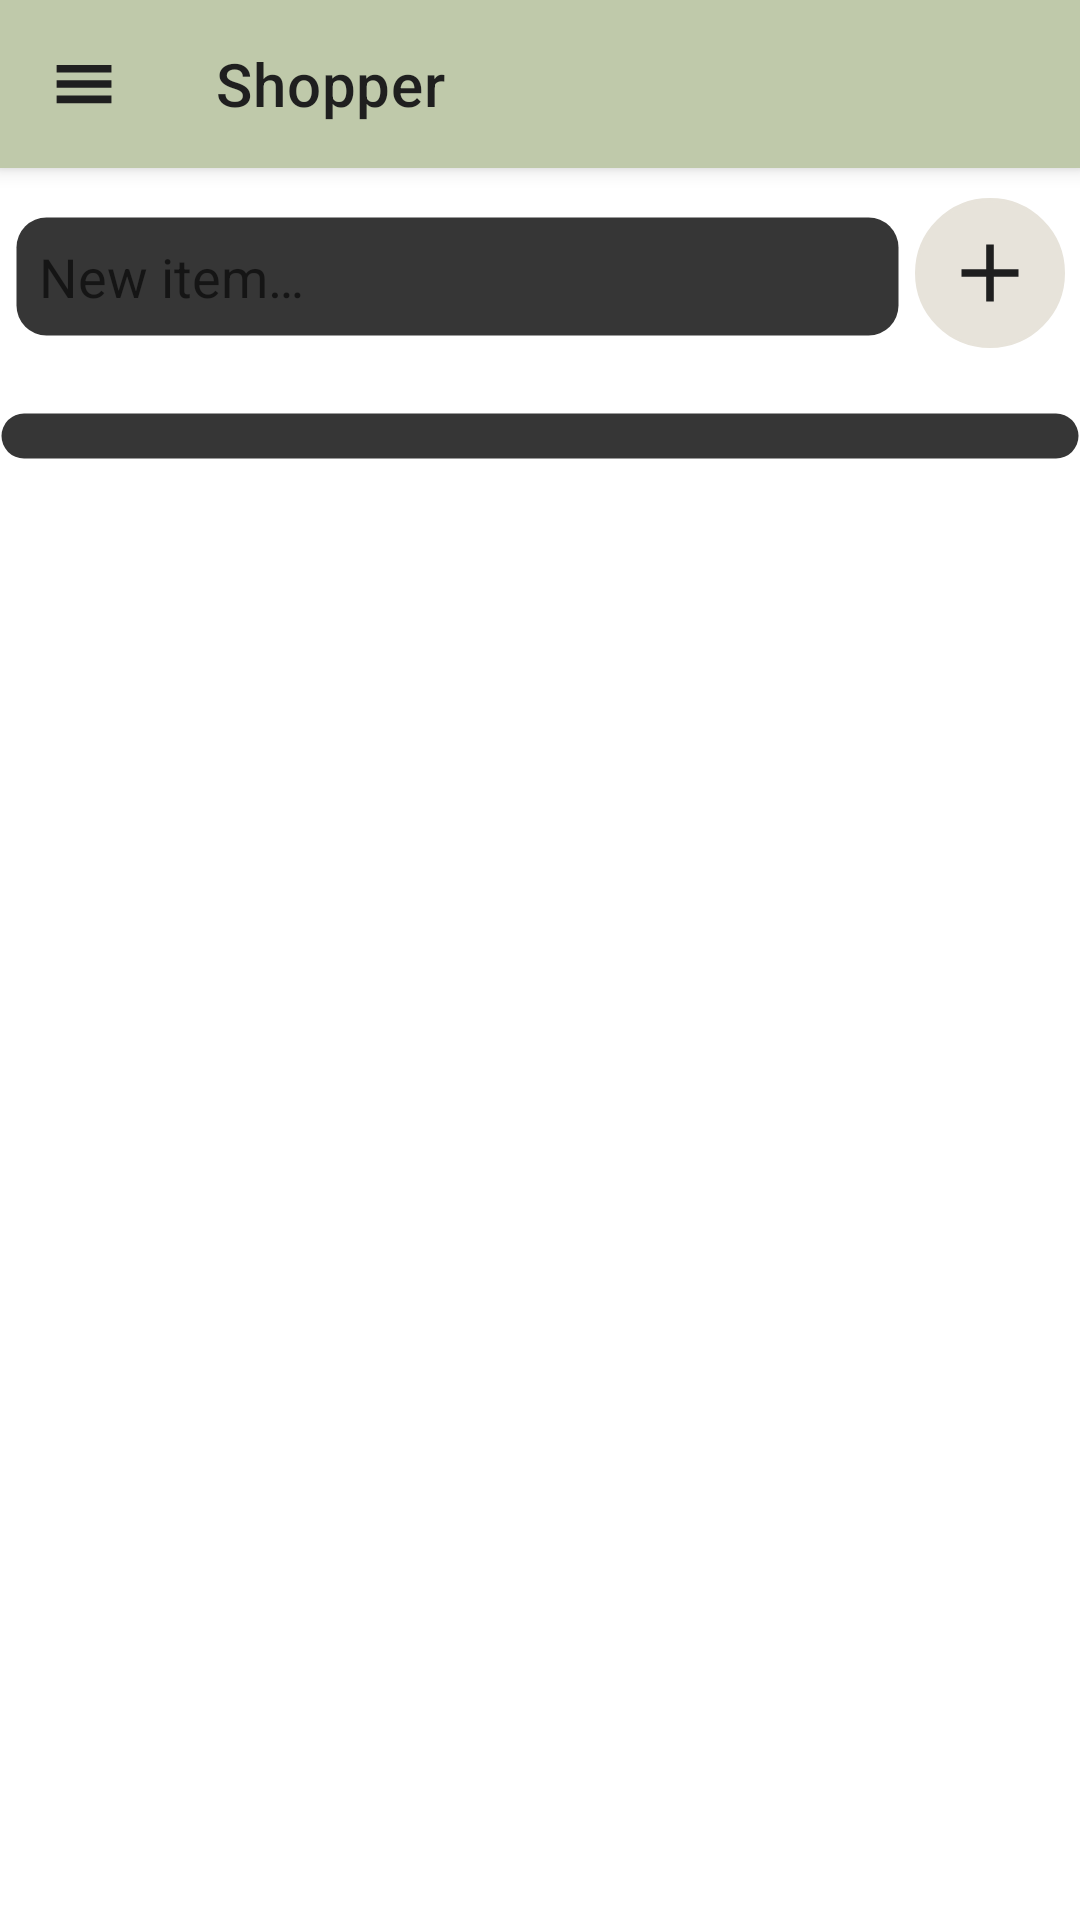

Where icons sit on this 1080x1920 app screen, as (x1, y1, x2, y2):
add: (915, 198, 1065, 348)
